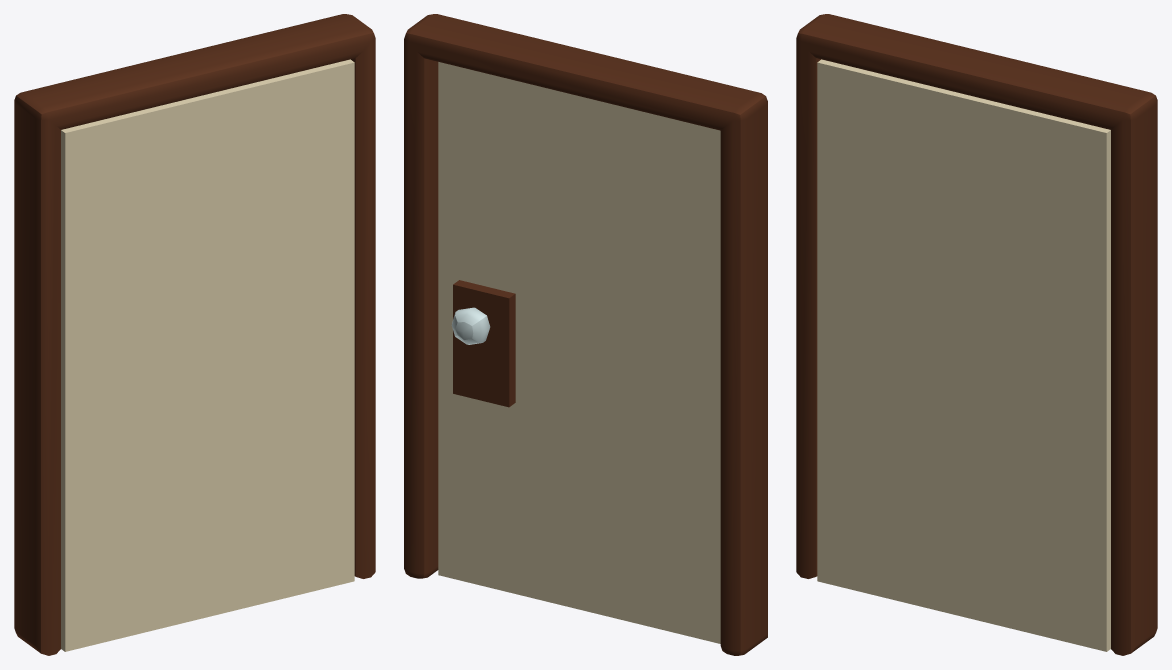
The model's file is DOOR.fbx.
The picture shows the model from 3 angles, left to right: view 1: azimuth 30°, elevation 25°; view 2: azimuth 150°, elevation 25°; view 3: azimuth 330°, elevation 25°; orthographic projection.
Parts seen in each view (by area): view 1: DOOR, DOOR_FRAME; view 2: DOOR, DOOR_FRAME, HANDLE; view 3: DOOR, DOOR_FRAME.
Boxes of the visible parts, x1=… form: DOOR: x1=61, y1=59, x2=354, y2=651; DOOR_FRAME: x1=14, y1=14, x2=375, y2=655; DOOR: x1=438, y1=62, x2=720, y2=643; DOOR_FRAME: x1=404, y1=14, x2=767, y2=655; HANDLE: x1=451, y1=280, x2=515, y2=407; DOOR: x1=817, y1=59, x2=1110, y2=651; DOOR_FRAME: x1=796, y1=14, x2=1157, y2=655.
Bounding box in the file's own units: 86.46 × 133 × 18.21.
